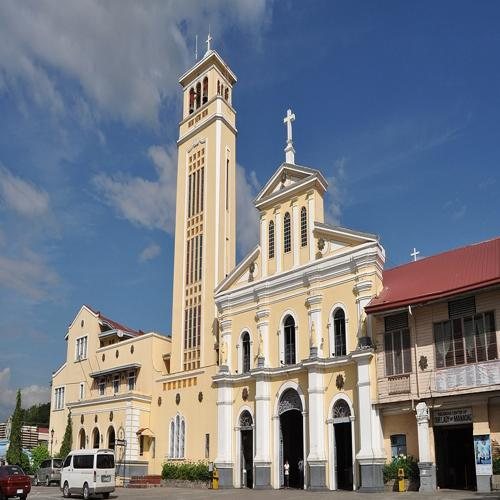Manaoag Church: (151, 10, 390, 486)
